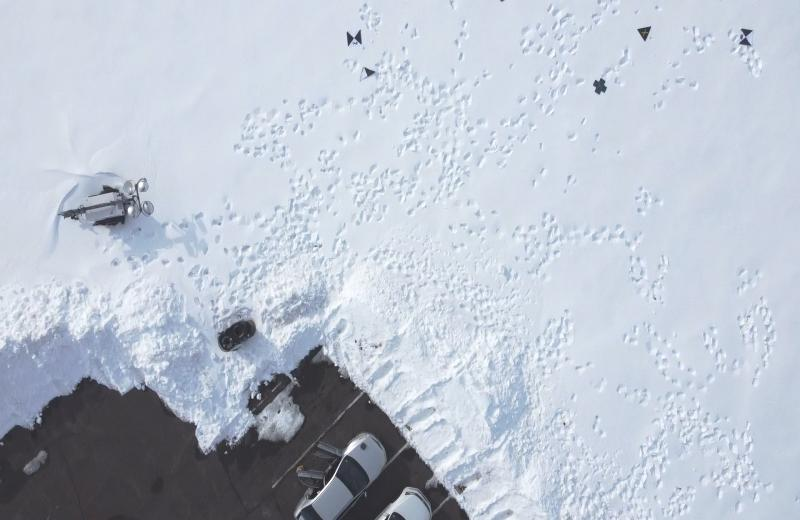Cross: (592, 77, 610, 96)
Triangle: (636, 26, 653, 42)
